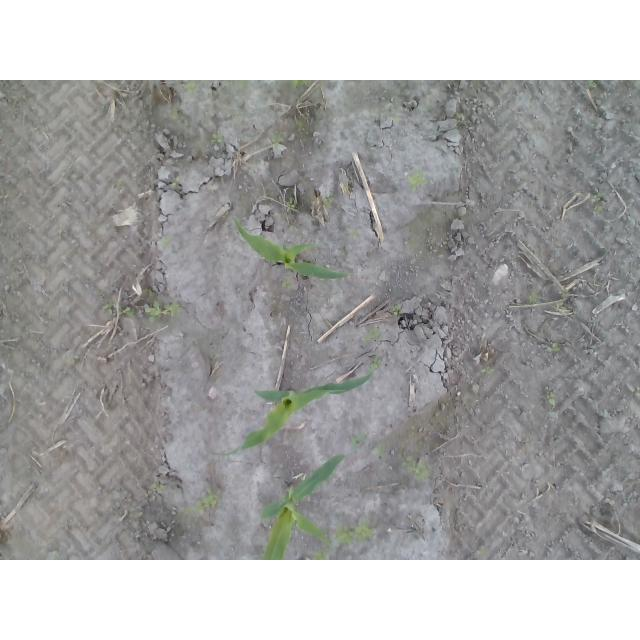Maize: (207, 373, 376, 456), (258, 454, 347, 560), (233, 216, 352, 281)
Weeds: (333, 522, 375, 545), (399, 453, 430, 480), (186, 488, 218, 513), (146, 303, 180, 324), (406, 173, 428, 192), (590, 192, 606, 217), (351, 431, 370, 448), (320, 190, 334, 210), (309, 550, 332, 560), (543, 342, 562, 354), (366, 327, 382, 341), (371, 446, 386, 460), (148, 482, 164, 495), (208, 132, 224, 145), (627, 384, 640, 399), (102, 301, 115, 316), (369, 356, 382, 370), (158, 235, 171, 249), (292, 80, 312, 89), (545, 390, 556, 406), (272, 133, 281, 151), (124, 306, 137, 318), (182, 81, 194, 94), (169, 176, 181, 189), (479, 366, 496, 375), (527, 292, 538, 304), (279, 278, 291, 289), (167, 107, 177, 120), (66, 353, 79, 363), (391, 304, 401, 316), (389, 115, 400, 125), (557, 302, 570, 310), (237, 80, 247, 90), (477, 546, 488, 554), (286, 198, 294, 209), (588, 80, 596, 89), (352, 232, 359, 240)
